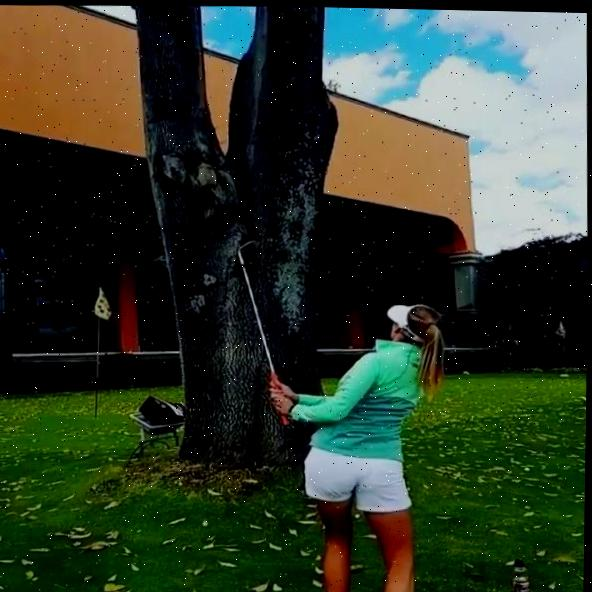ClubHead: (239, 239, 258, 252)
